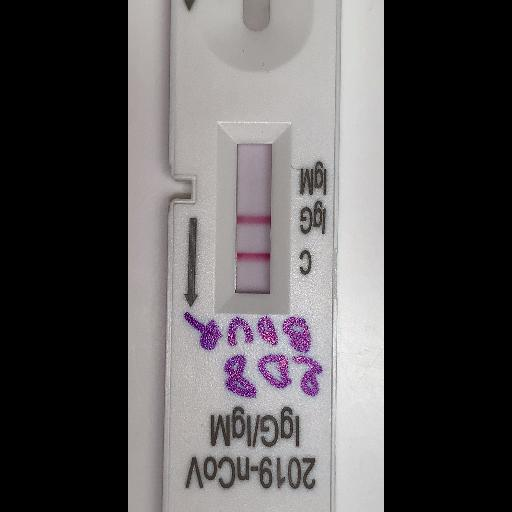Pos: (170, 0, 339, 511)
